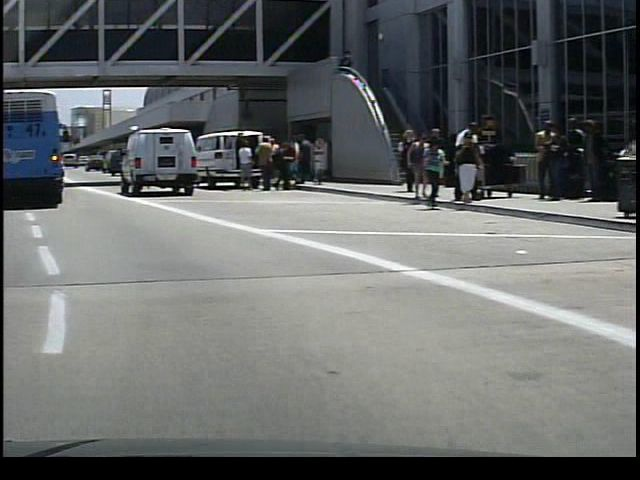person: (452, 121, 483, 205), (450, 129, 479, 206), (249, 134, 278, 194), (292, 132, 314, 184), (232, 135, 251, 193)
